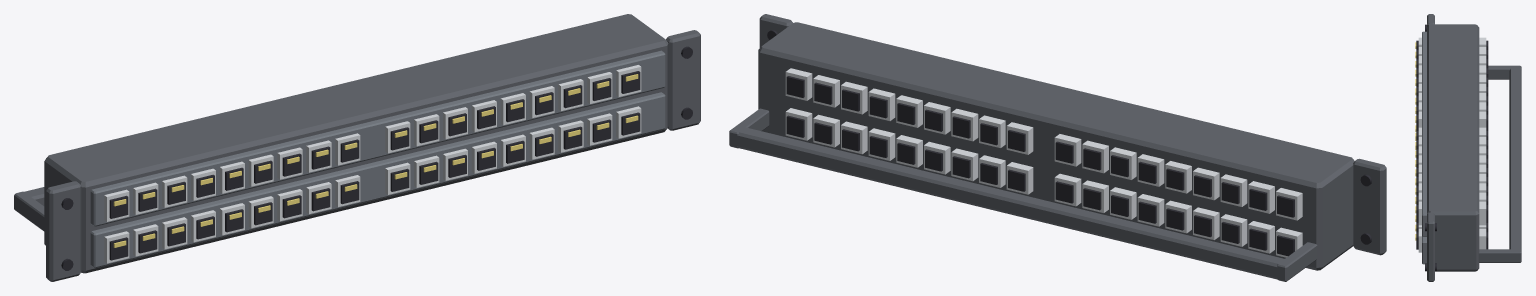
Rendered from dc_patch_panel.glb.
3 views of the same model, side by side, from view 1: azimuth 30°, elevation 25°; view 2: azimuth 150°, elevation 25°; view 3: azimuth 270°, elevation 25° (orthographic). The views are drawn at different scales.
Visible parts, largest first — view 1: Keystone_Port_Banks, Patch_Panel_Chassis, Rear_Strain_Relief_Bar; view 2: Patch_Panel_Chassis, Keystone_Port_Banks, Rear_Strain_Relief_Bar; view 3: Patch_Panel_Chassis, Keystone_Port_Banks, Rear_Strain_Relief_Bar.
Part boxes in pixels (x1,y1,x2,y2): Keystone_Port_Banks: (90, 50, 665, 267); Patch_Panel_Chassis: (44, 14, 700, 281); Rear_Strain_Relief_Bar: (14, 187, 44, 231); Patch_Panel_Chassis: (758, 14, 1386, 270); Keystone_Port_Banks: (785, 68, 1302, 257); Rear_Strain_Relief_Bar: (729, 108, 1317, 281); Patch_Panel_Chassis: (1425, 14, 1479, 281); Keystone_Port_Banks: (1415, 31, 1488, 264); Rear_Strain_Relief_Bar: (1478, 65, 1521, 262).
Bounding box in the file's own units: 0.492 × 0.066 × 0.1055.
